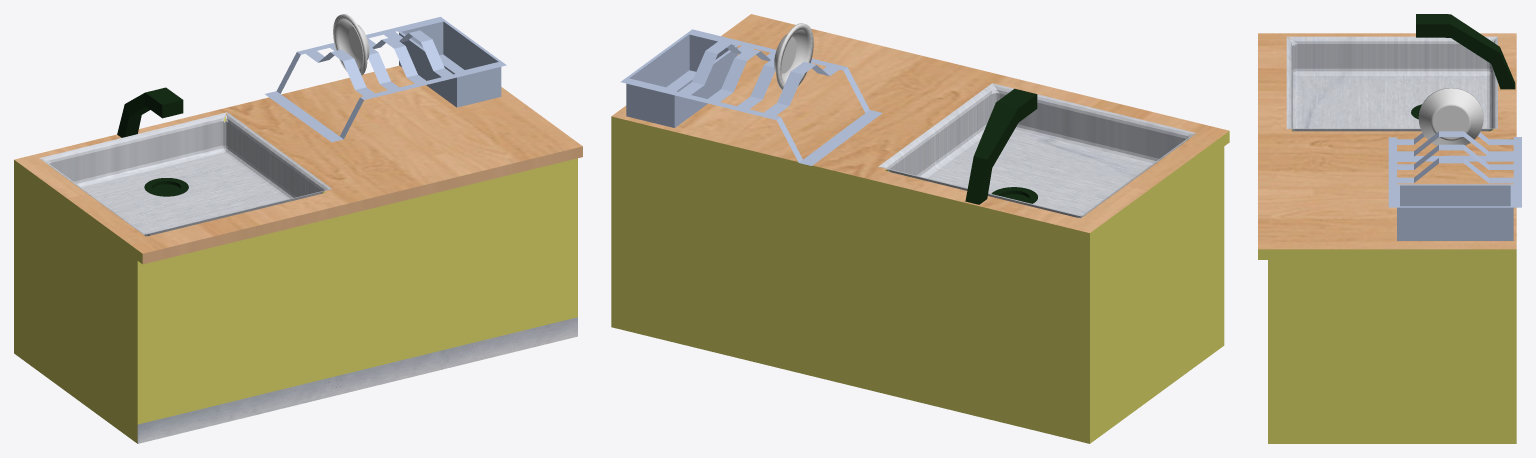
Rendered from DishWashSinkFBX.fbx.
3 views of the same model, side by side, from view 1: azimuth 30°, elevation 25°; view 2: azimuth 150°, elevation 25°; view 3: azimuth 270°, elevation 25° (orthographic). The views are drawn at different scales.
Visible parts, largest first — view 1: DishWashingSink, PlateHolder, Plate; view 2: DishWashingSink, PlateHolder, Plate; view 3: DishWashingSink, PlateHolder, Plate.
Boxes of the visible parts, bbox=[...] form: DishWashingSink: bbox=[14, 65, 582, 443]; PlateHolder: bbox=[265, 17, 506, 142]; Plate: bbox=[333, 14, 369, 75]; DishWashingSink: bbox=[611, 14, 1229, 443]; PlateHolder: bbox=[620, 29, 882, 165]; Plate: bbox=[774, 23, 813, 89]; DishWashingSink: bbox=[1258, 14, 1516, 443]; PlateHolder: bbox=[1388, 131, 1521, 240]; Plate: bbox=[1418, 88, 1483, 145].
Bounding box in the file's own units: 819 × 510 × 423.
6 materials, 2 textured.
